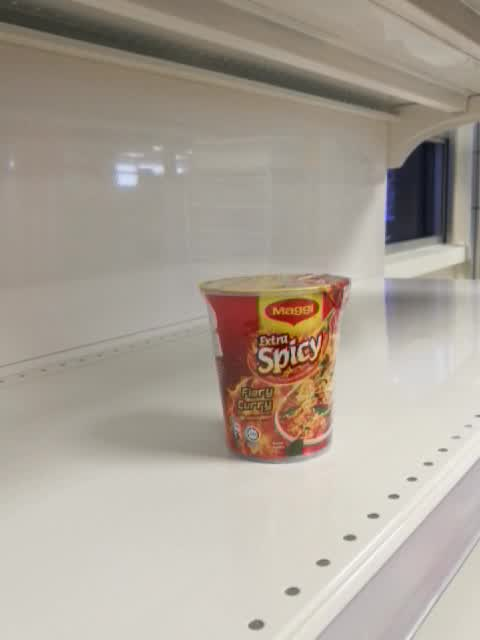maggi: (198, 273, 351, 465)
